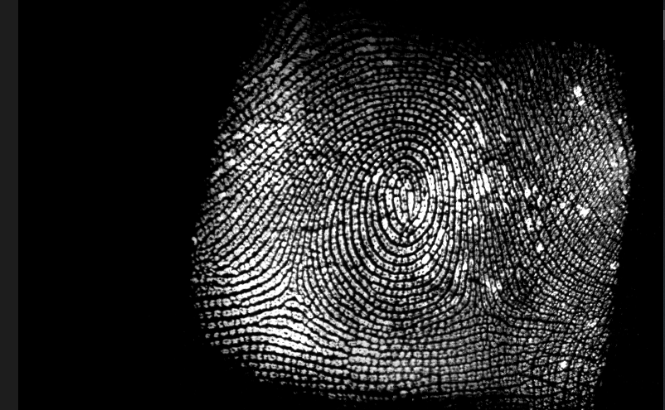nucelo: (382, 167, 421, 226)
verticilo: (274, 276, 310, 311), (455, 291, 495, 318)
